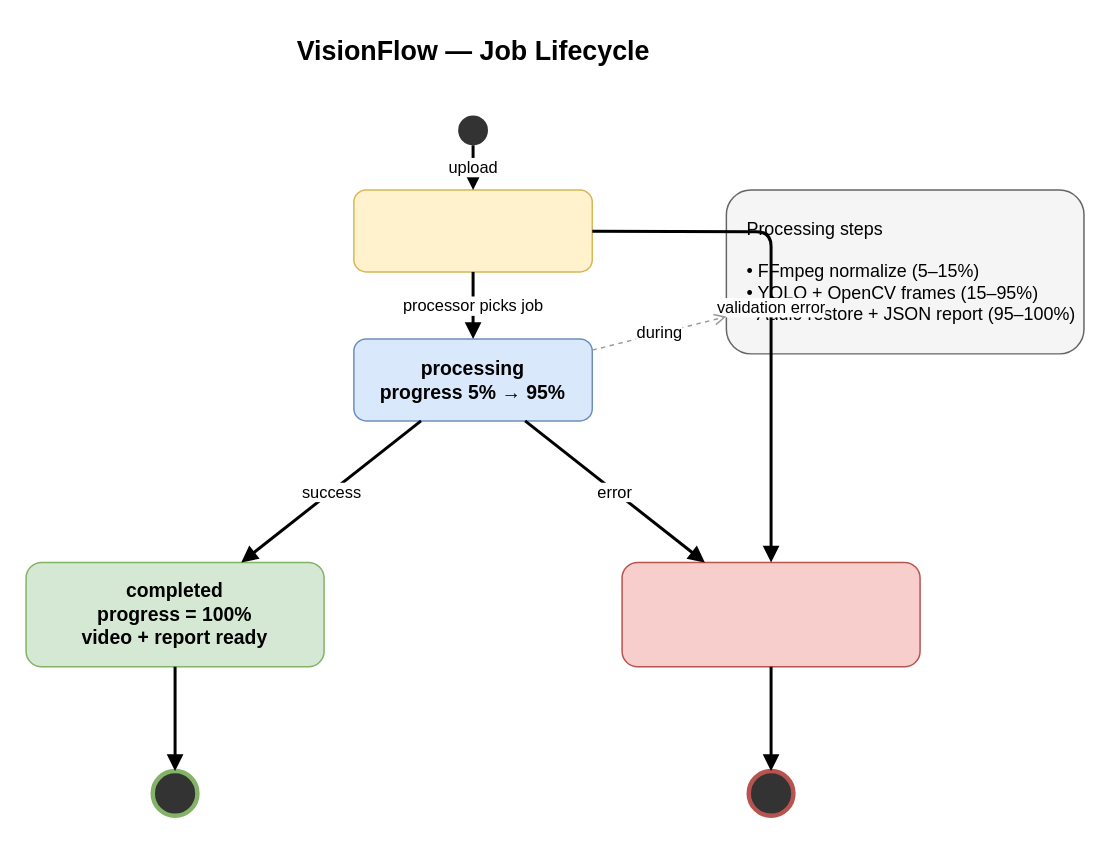
The diagram is 1110 pixels wide and 843 high, and some of its shapes have lost their labels. Each missing label, with the centre of its shape:
failed errorMessage stored: (770,614)
pending progress = 0%: (472,230)
